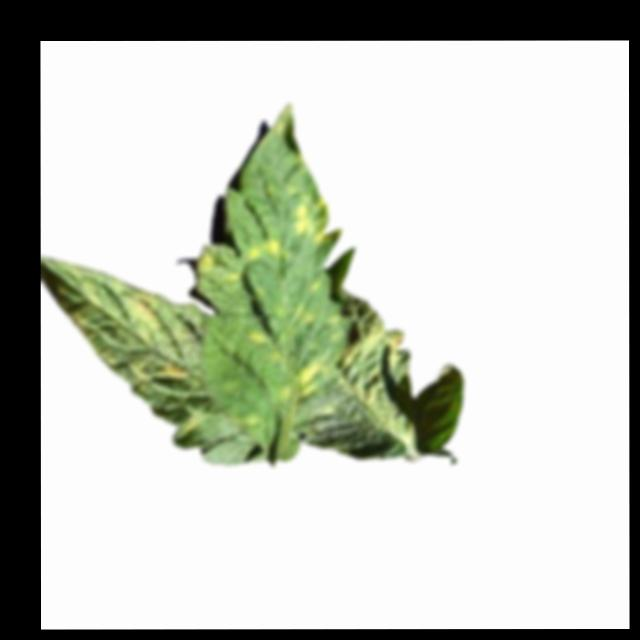Leaf_Mold: (44, 256, 201, 438), (339, 323, 404, 407), (196, 237, 281, 290), (284, 189, 336, 245), (272, 355, 318, 404), (244, 326, 266, 345)
